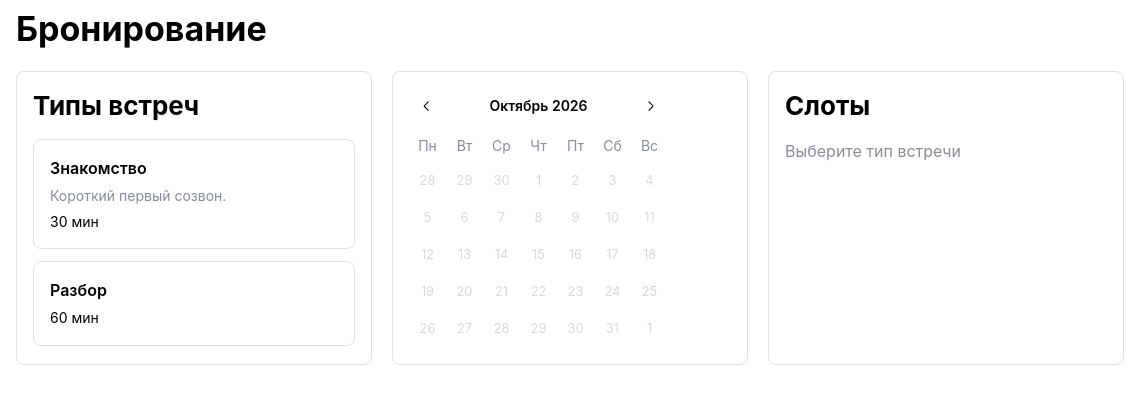
Scenario: booking page › returns to the type list through the change button
This screenshot has width=1141, height=420.
What coordinates should you click on to do the following:
click the button "Знакомство Короткий первый созвон. 30 мин"
I would click on:
 (194, 194)
Its box is [33,139,355,250].
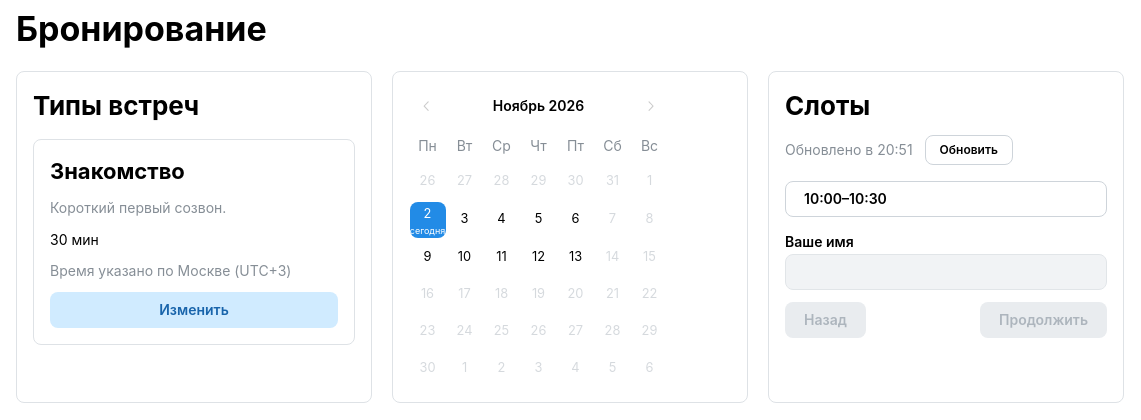
Result: the button "Изменить" is shown
What coordinates should you click on to do the following:
click the button "Изменить"
I would click on:
 (194, 310)
Its box is [50,292,338,328].
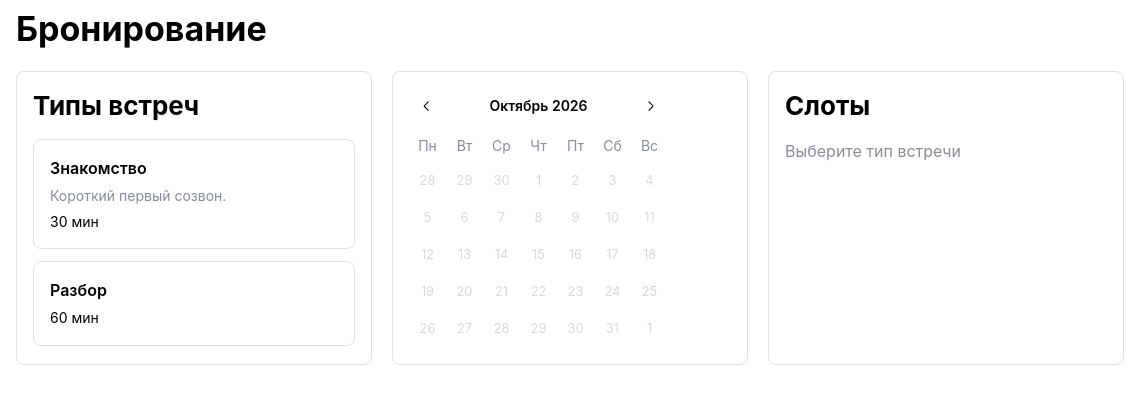
Result: the button "Разбор 60 мин" is shown at [33,262,355,346]
Result: the text "Выберите тип встречи" is shown at [785,141,961,161]
